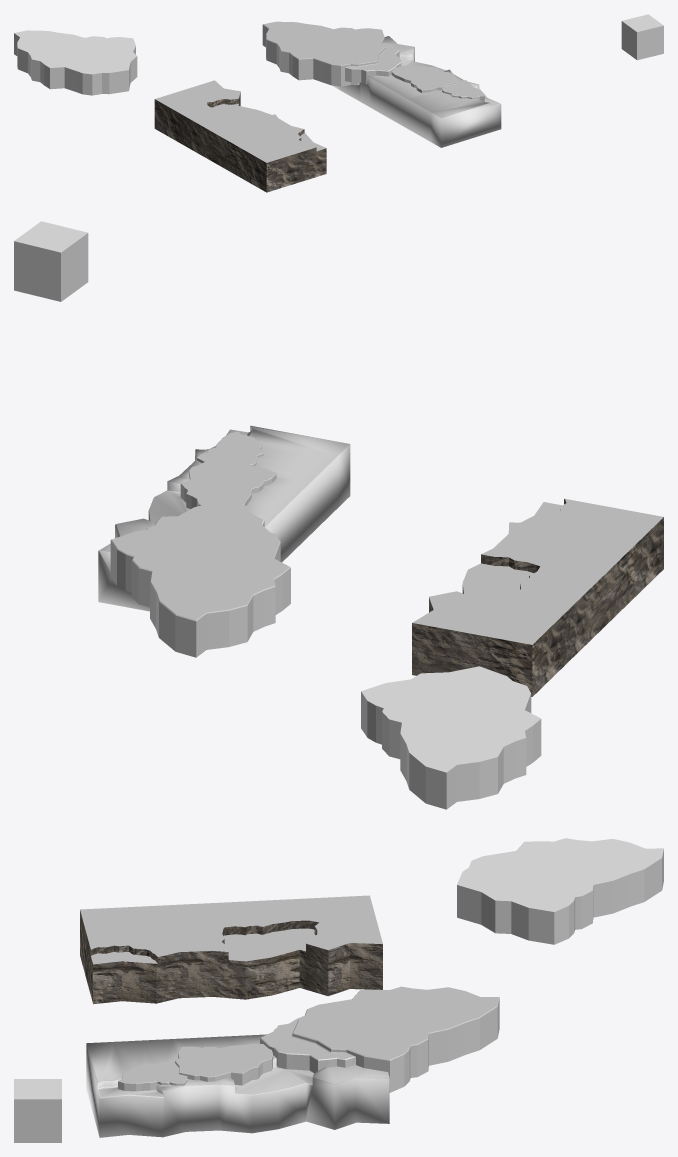
The model's file is layeredrockBeveledblend.fbx.
3 views of the same model, one above another, from view 1: azimuth 30°, elevation 25°; view 2: azimuth 150°, elevation 25°; view 3: azimuth 270°, elevation 25° (orthographic). The views are drawn at different scales.
Visible parts, largest first — view 1: Cube.001, Cube, Cylinder, Cube.002; view 2: Cube.001, Cube, Cylinder, Cube.002; view 3: Cube.001, Cube, Cylinder, Cube.002.
Part boxes in pixels (x1=…): Cube.001: x1=262, y1=21, x2=501, y2=147; Cube: x1=154, y1=80, x2=326, y2=192; Cylinder: x1=14, y1=30, x2=137, y2=95; Cube.002: x1=621, y1=14, x2=663, y2=60; Cube.001: x1=98, y1=425, x2=350, y2=657; Cube: x1=412, y1=498, x2=663, y2=696; Cylinder: x1=361, y1=666, x2=541, y2=809; Cube.002: x1=14, y1=221, x2=88, y2=301; Cube.001: x1=86, y1=986, x2=499, y2=1137; Cube: x1=80, y1=895, x2=382, y2=1004; Cylinder: x1=457, y1=838, x2=663, y2=944; Cube.002: x1=14, y1=1079, x2=61, y2=1142.
Size of the model in its own units: 3381 by 646 by 2702.
